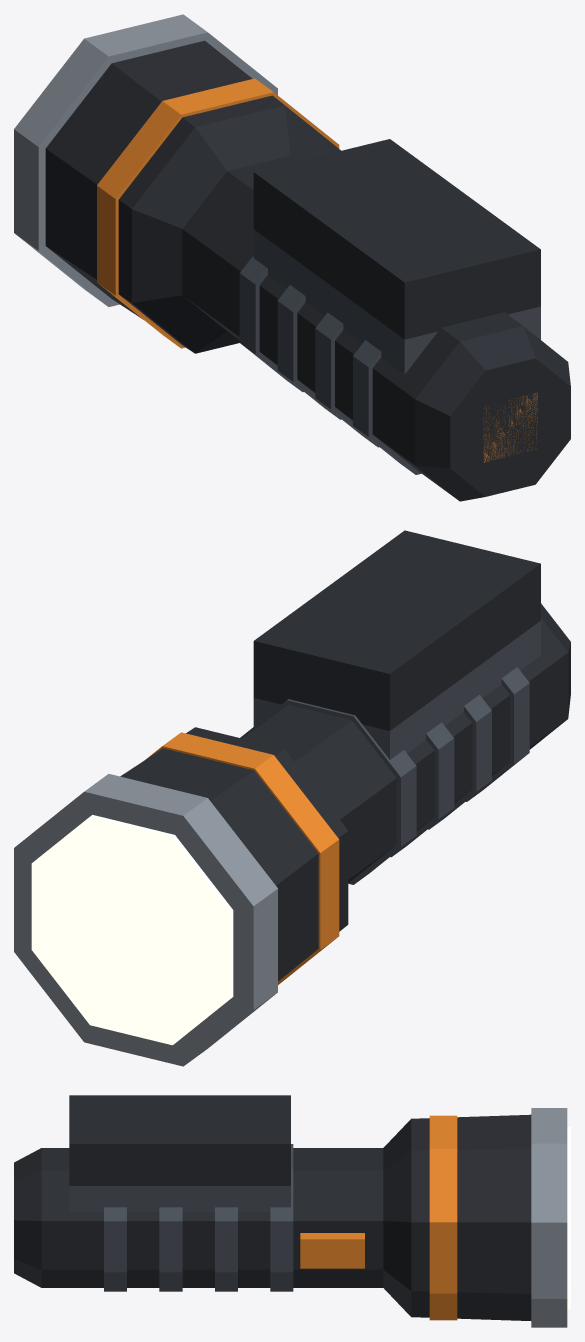
The model's file is att_flashlight.glb.
3 renders of one model, top to bottom at view 1: azimuth 30°, elevation 25°; view 2: azimuth 150°, elevation 25°; view 3: azimuth 270°, elevation 25°, orthographic. The views are drawn at different scales.
Parts seen in each view (by area): view 1: Body; view 2: Body; view 3: Body.
Part boxes in pixels (left/top/right/bottom): Body: left=14, top=14, right=570, bottom=501; Body: left=14, top=530, right=570, bottom=1066; Body: left=14, top=1095, right=570, bottom=1327.
Bounding box in the file's own units: 0.044 × 0.0455 × 0.1206.
